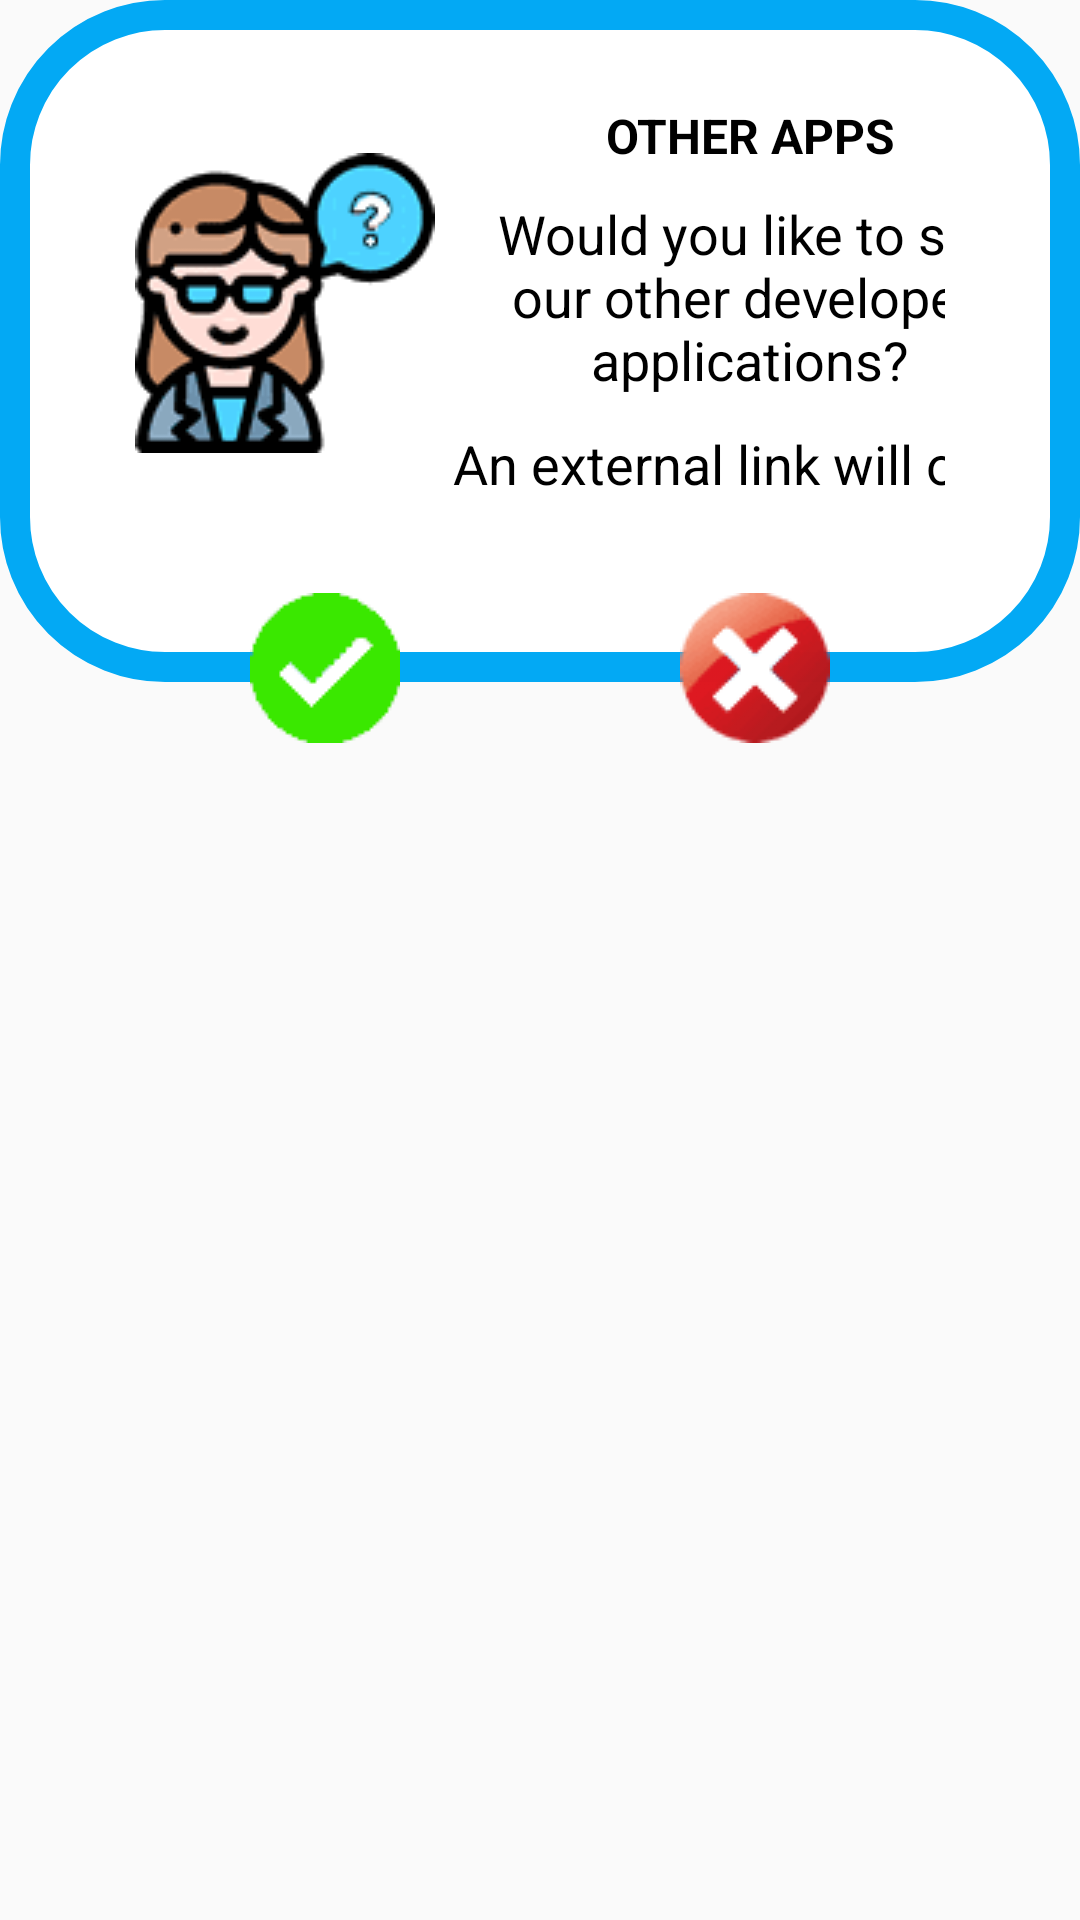

Icons on this 1080 × 1920 Android screen, each with the point to tap as [x,y]:
question: [285,303]
